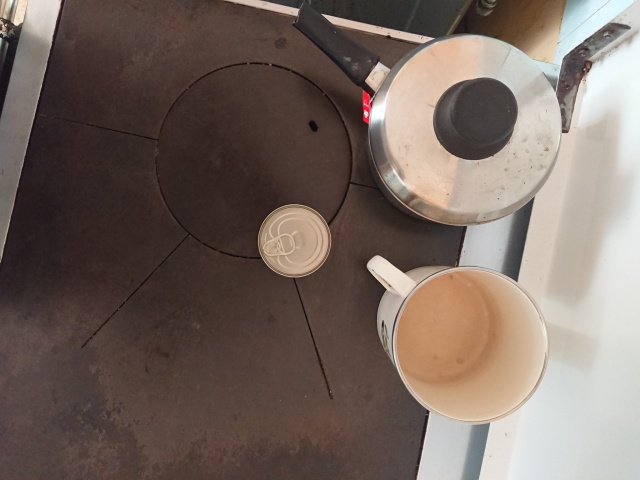Gavrilovic Pork Liver Pate 100g: (255, 201, 333, 280)
